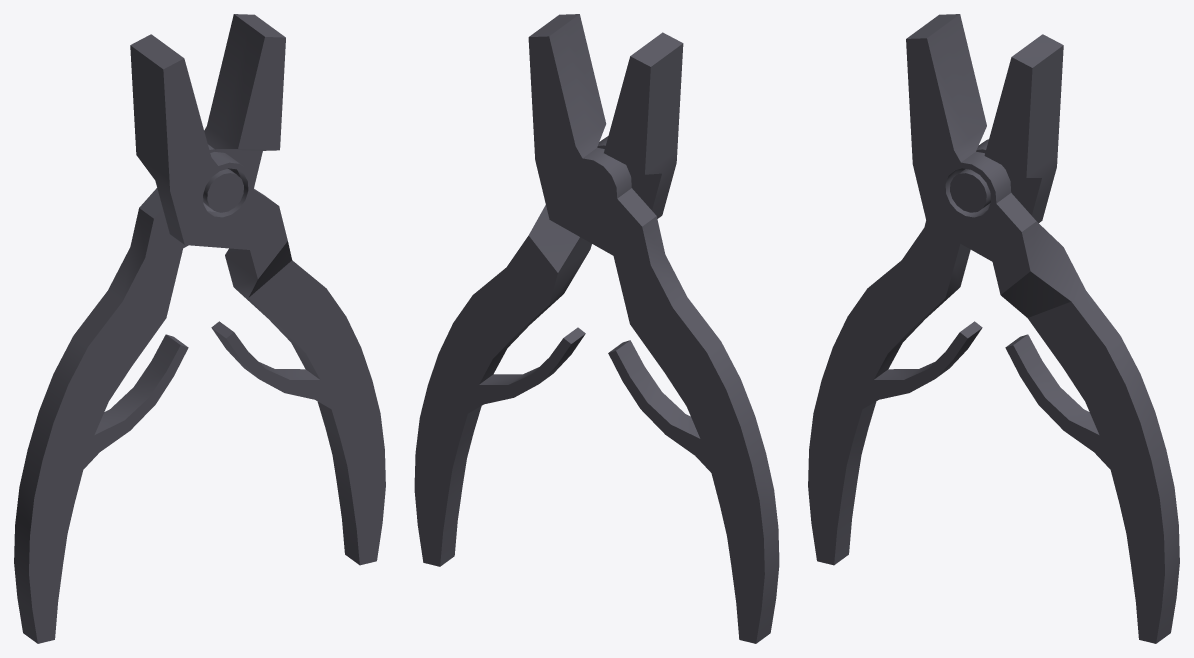
File: pliers.fbx
3 renders of one model, left to right at view 1: azimuth 30°, elevation 25°; view 2: azimuth 150°, elevation 25°; view 3: azimuth 330°, elevation 25°, orthographic.
Parts seen in each view (by area): view 1: node_id30; view 2: node_id30; view 3: node_id30.
Boxes of the visible parts, left/top/right/bottom form: node_id30: left=14, top=14, right=385, bottom=643; node_id30: left=414, top=14, right=779, bottom=643; node_id30: left=808, top=14, right=1179, bottom=643.
Bounding box in the file's own units: 0.512 × 0.7778 × 0.0823.
Materials: 1 (1 with a texture image).
